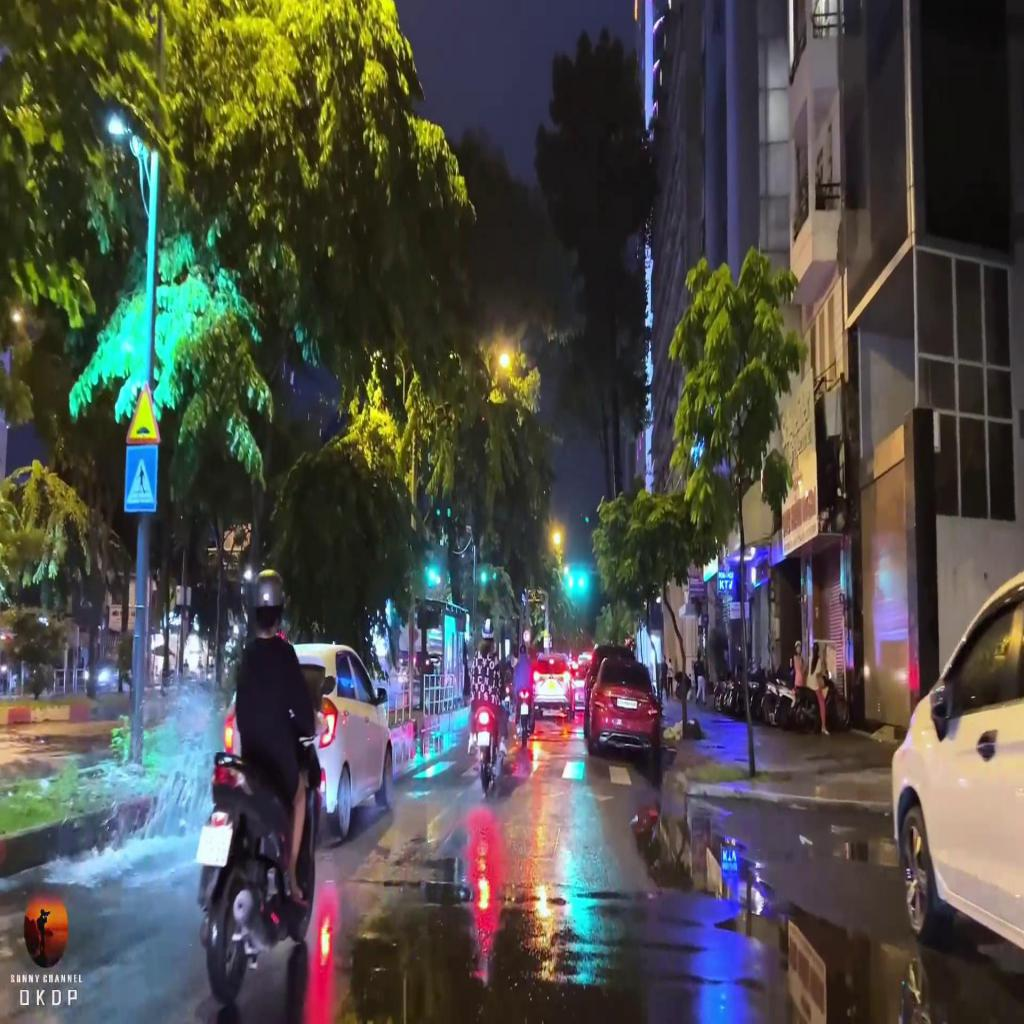duong_co_song_map_mo_nhan_tao: (124, 380, 162, 443)
duong_nguoi_di_bo_sang_ngang: (125, 445, 157, 513)
